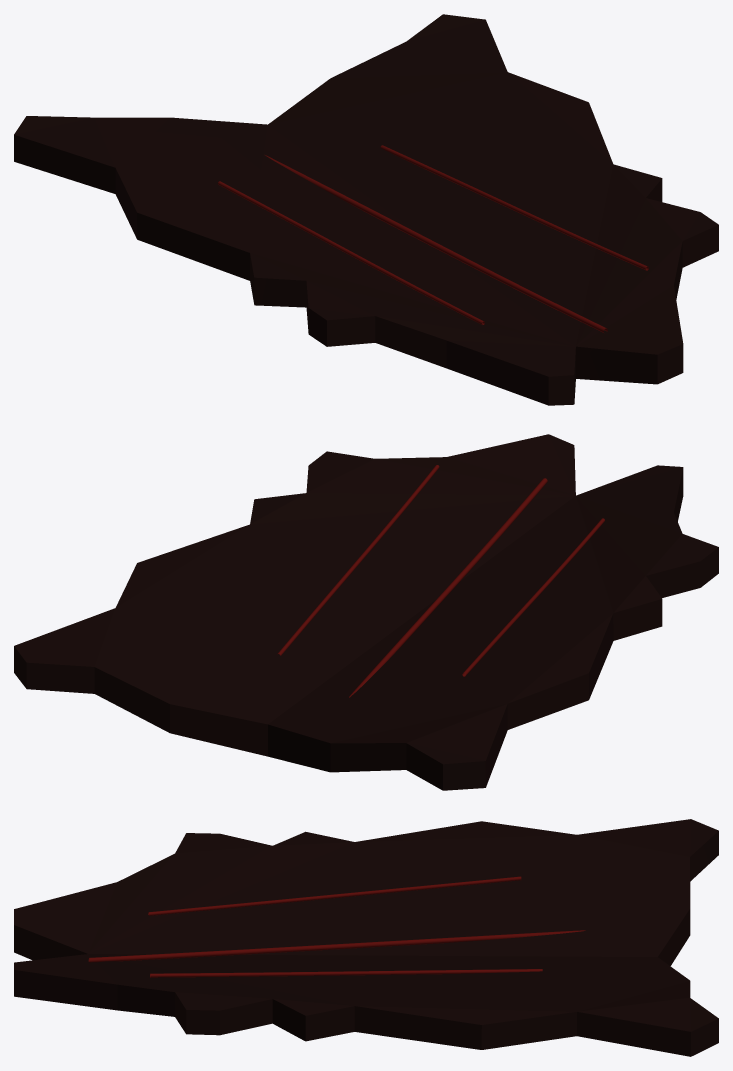
The model's file is Alpha_pelt.obj.
The picture shows the model from 3 angles, top to bottom: view 1: azimuth 30°, elevation 25°; view 2: azimuth 150°, elevation 25°; view 3: azimuth 270°, elevation 25°; orthographic projection. The views are drawn at different scales.
Visible parts, largest first — view 1: alpha_pelt, BézierCurve.002; view 2: alpha_pelt, BézierCurve.002; view 3: alpha_pelt, BézierCurve.002.
Part boxes in pixels (<box>): alpha_pelt: <box>14,14,718,405</box>; BézierCurve.002: <box>218,145,648,332</box>; alpha_pelt: <box>14,434,718,790</box>; BézierCurve.002: <box>277,465,604,697</box>; alpha_pelt: <box>14,819,718,1056</box>; BézierCurve.002: <box>88,876,585,977</box>.
Bounding box in the file's own units: 9.66 × 1.39 × 13.52.
